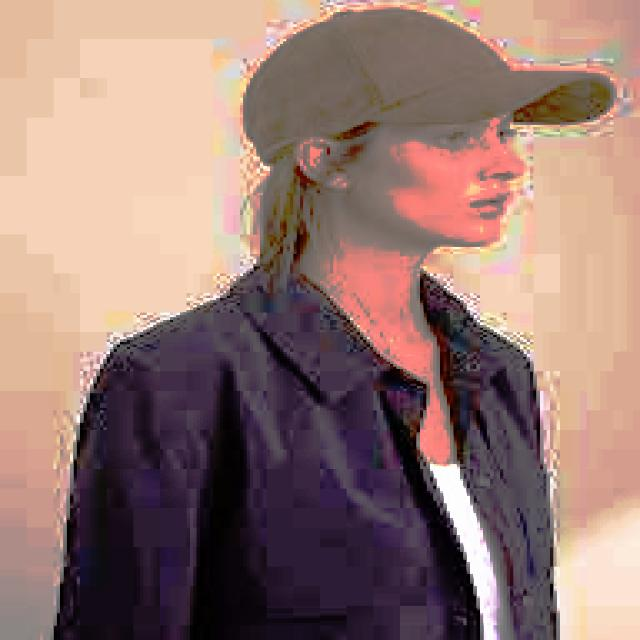TOPI: (223, 0, 640, 159)
